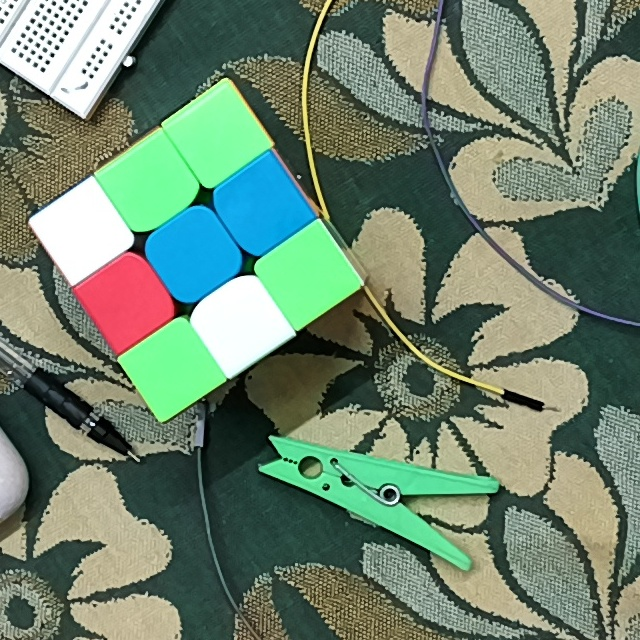tile: (235, 176, 291, 236), (51, 206, 110, 261), (119, 161, 177, 215), (166, 230, 222, 284), (146, 343, 200, 399), (98, 277, 153, 331), (283, 249, 338, 303), (191, 109, 248, 161), (212, 296, 268, 347)
